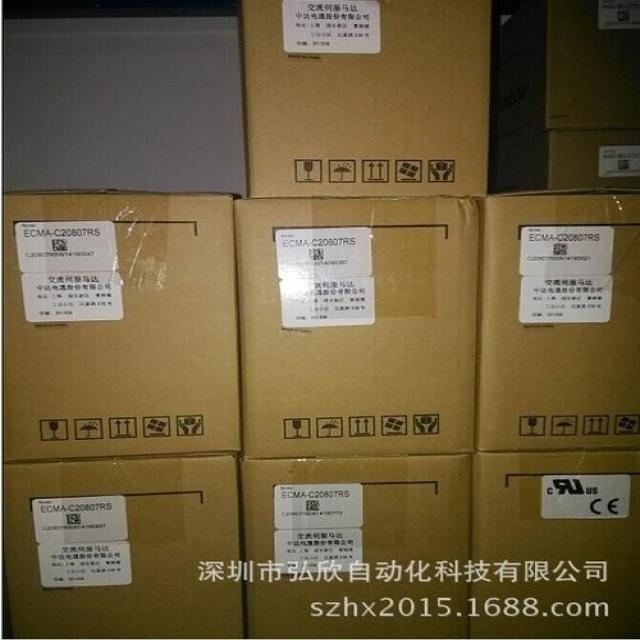box: (230, 198, 484, 457), (4, 188, 243, 463), (242, 1, 494, 197), (5, 455, 243, 639), (241, 455, 474, 639), (477, 195, 640, 452), (470, 449, 639, 638), (495, 11, 640, 142), (493, 129, 637, 195)
